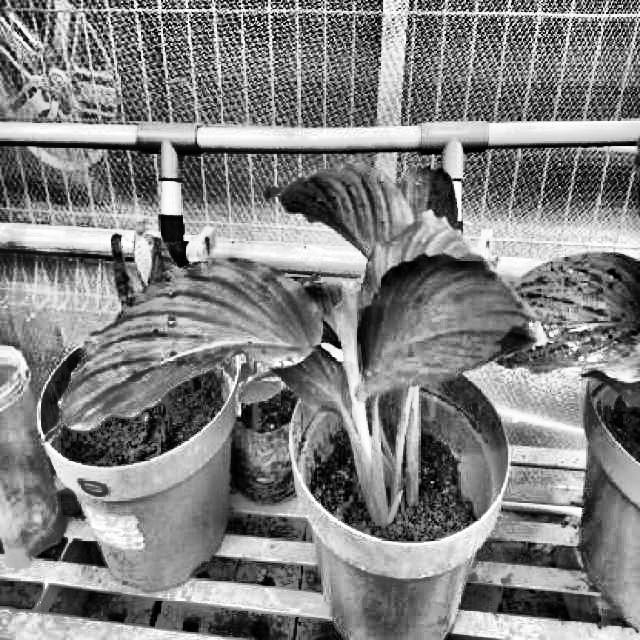plants: (44, 165, 550, 530)
